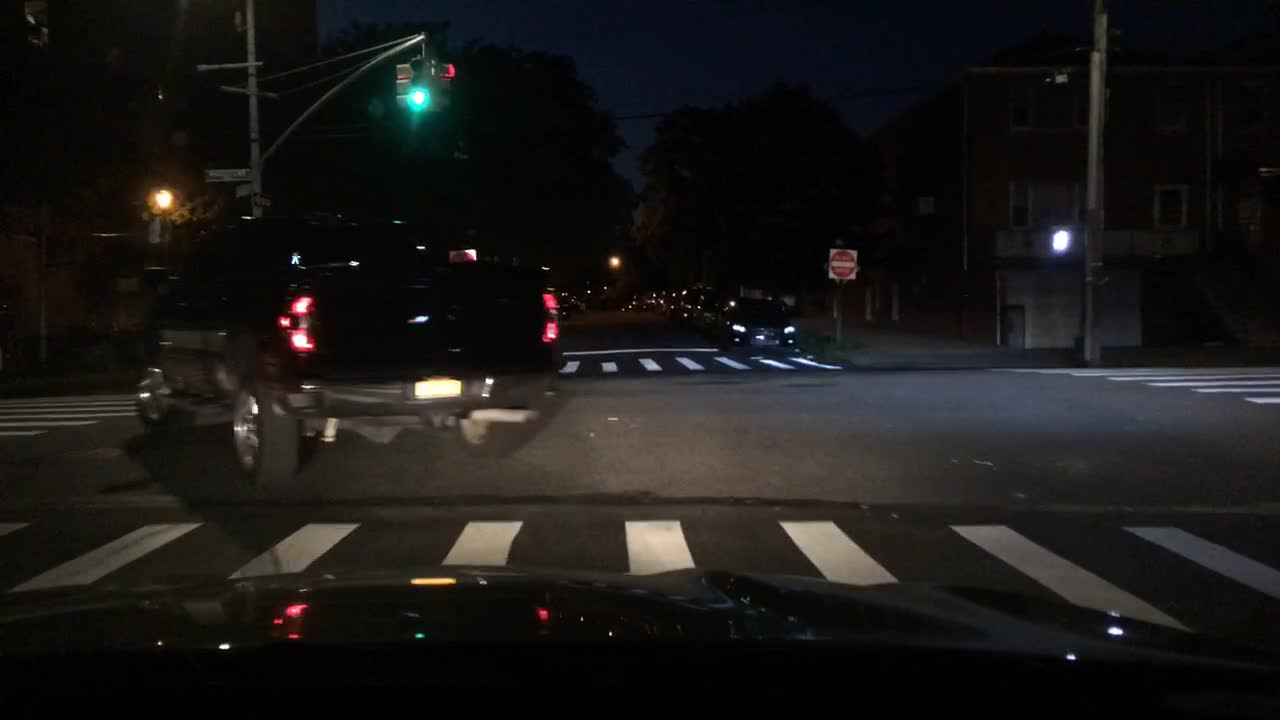car: (131, 212, 558, 484), (719, 297, 798, 351), (692, 288, 727, 332), (673, 280, 705, 317), (641, 285, 665, 310), (550, 288, 572, 315), (627, 287, 649, 307), (660, 287, 680, 309), (567, 292, 585, 314)
traffic light: (432, 57, 454, 108), (408, 54, 428, 108), (393, 57, 410, 108), (1048, 228, 1075, 255)
traffic sign: (827, 243, 855, 282), (201, 165, 249, 184), (249, 191, 271, 209)
